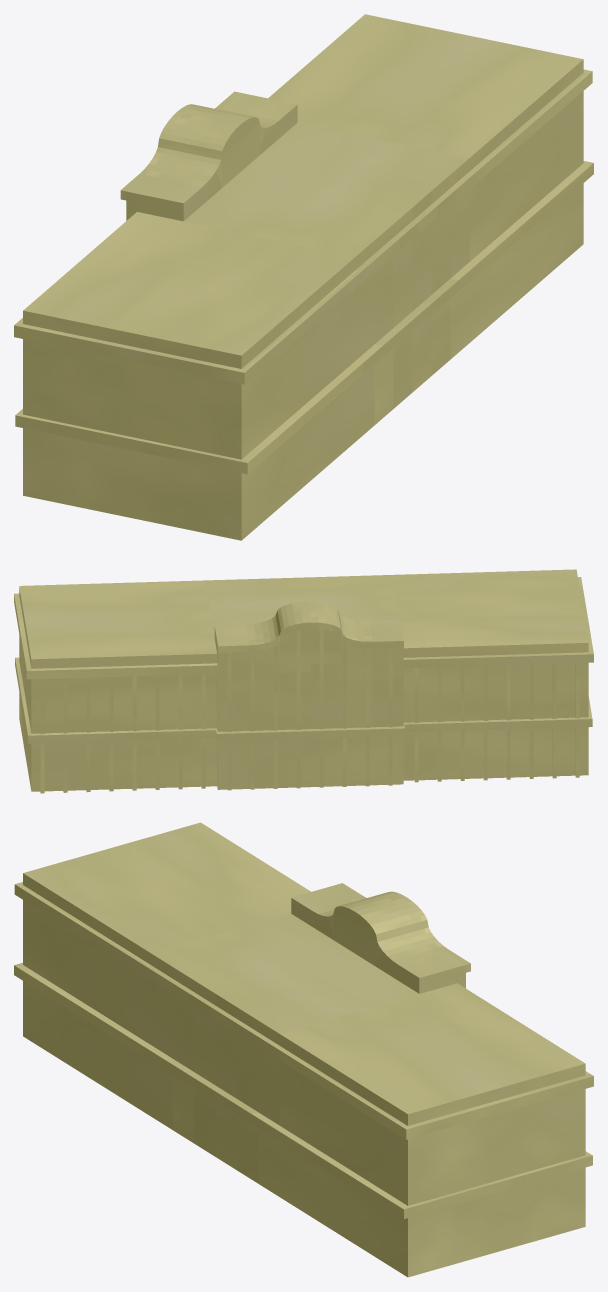
The model's file is MUNTREF.gltf.
The picture shows the model from 3 angles, top to bottom: view 1: azimuth 30°, elevation 25°; view 2: azimuth 150°, elevation 25°; view 3: azimuth 270°, elevation 25°; orthographic projection. The views are drawn at different scales.
Visible parts, largest first — view 1: MUNTREF; view 2: MUNTREF; view 3: MUNTREF.
Part boxes in pixels (left/top/right/bottom): MUNTREF: left=14, top=14, right=593, bottom=540; MUNTREF: left=14, top=569, right=593, bottom=793; MUNTREF: left=14, top=822, right=593, bottom=1277.
Bounding box in the file's own units: 1.84 × 0.594 × 1.51.
1 material, 1 textured.
